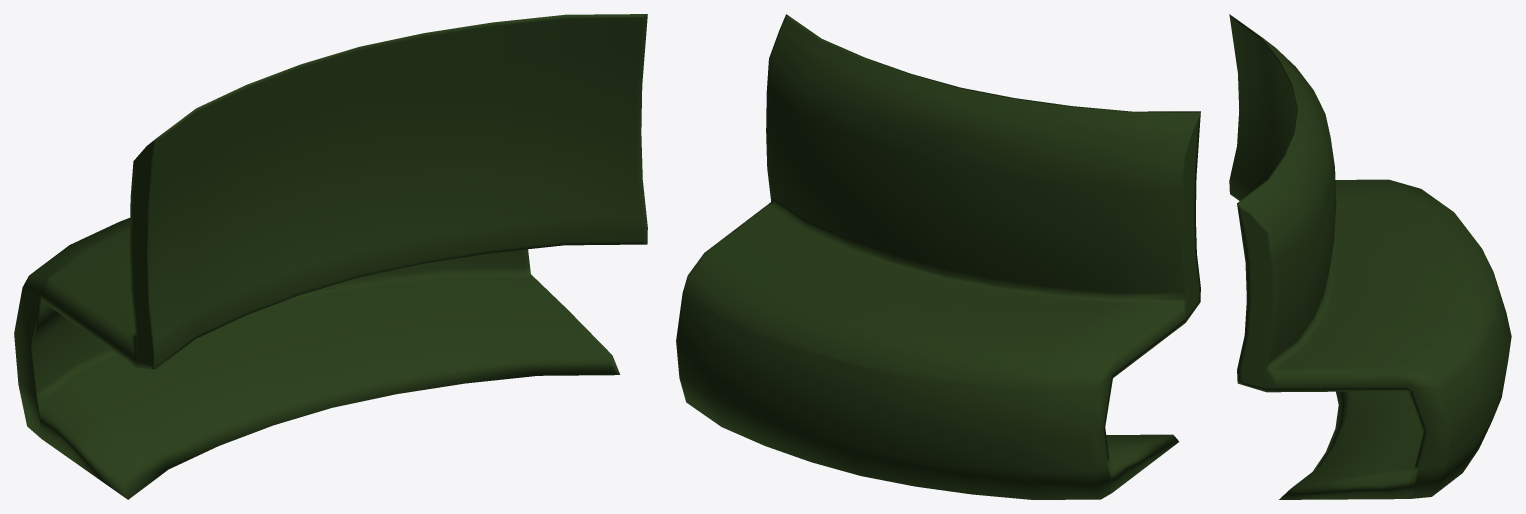
The model's file is CHAIR.fbx.
3 views of the same model, side by side, from view 1: azimuth 30°, elevation 25°; view 2: azimuth 150°, elevation 25°; view 3: azimuth 270°, elevation 25° (orthographic). The views are drawn at different scales.
Visible parts, largest first — view 1: banquillo.008; view 2: banquillo.008; view 3: banquillo.008.
Part boxes in pixels (x1,y1,x2,y2): banquillo.008: (14,14,647,499); banquillo.008: (676,14,1200,499); banquillo.008: (1229,14,1511,499).
Bounding box in the file's own units: 78.13 × 56.67 × 48.83.
